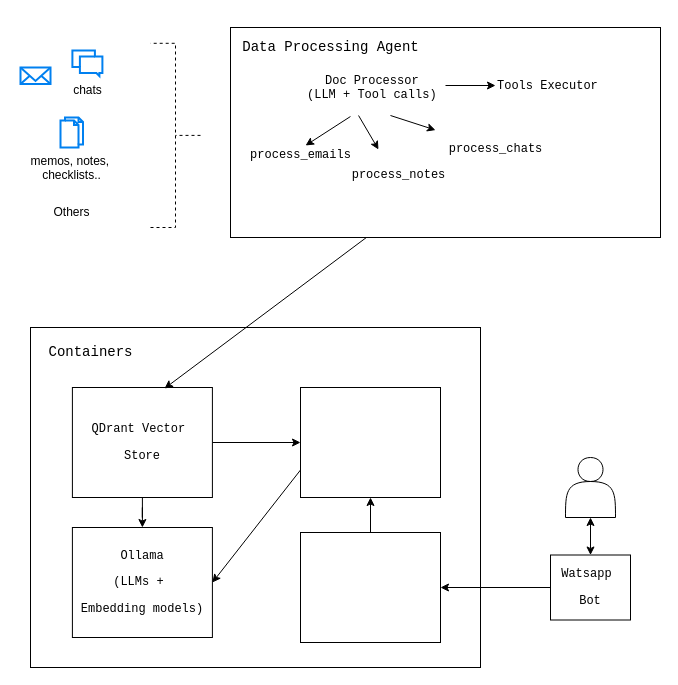
Image size: 678x685. Some labels were removed from this diagram. The box of each missing label's shape, as (x1, y1, x2, y2) in pixels:
Emails: (19, 66, 51, 84)
Fast API: (300, 532, 440, 642)
MCP: (300, 386, 440, 498)
